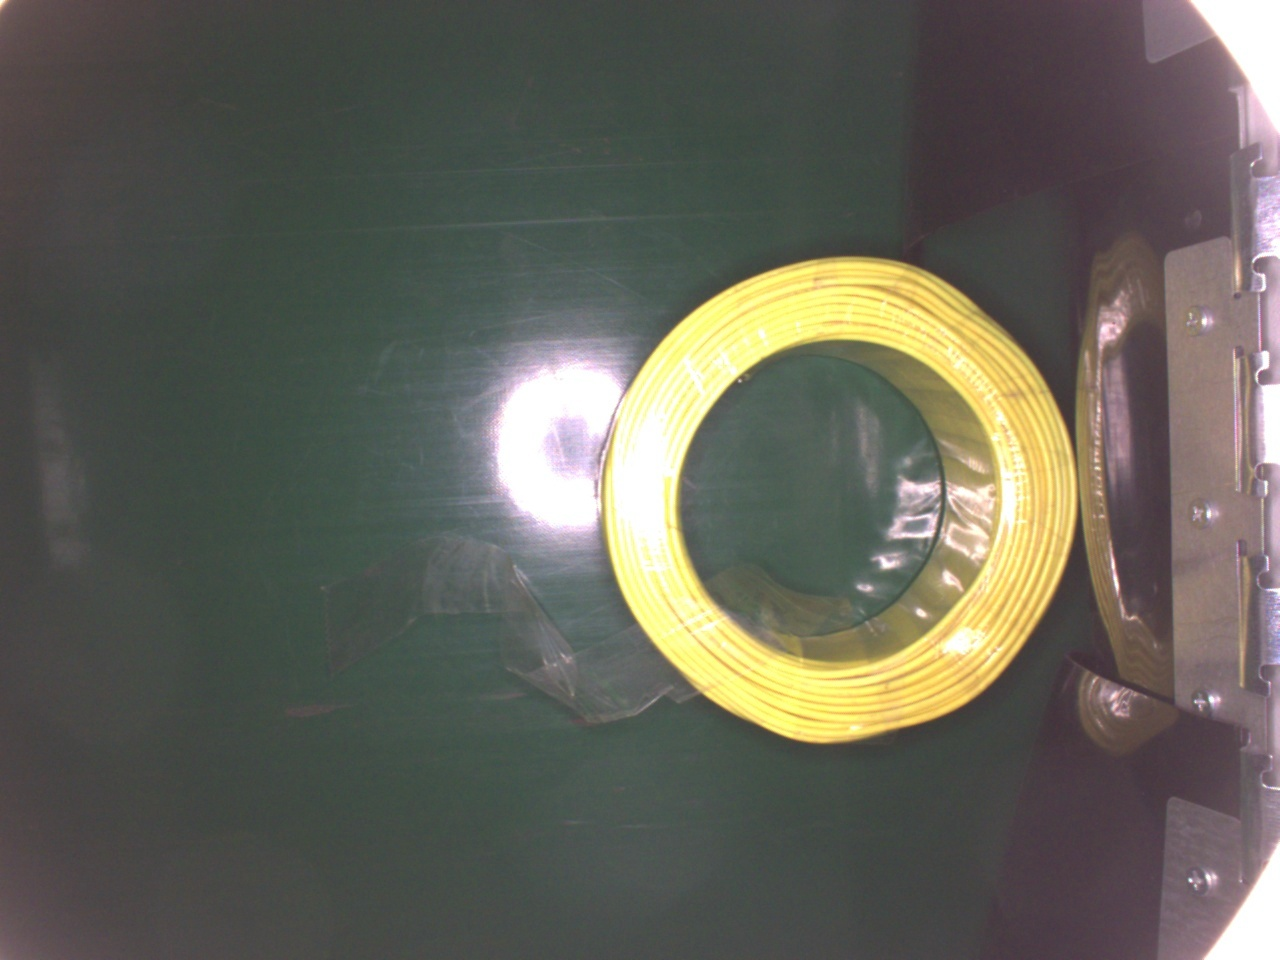yellow: (589, 254, 1083, 748)
